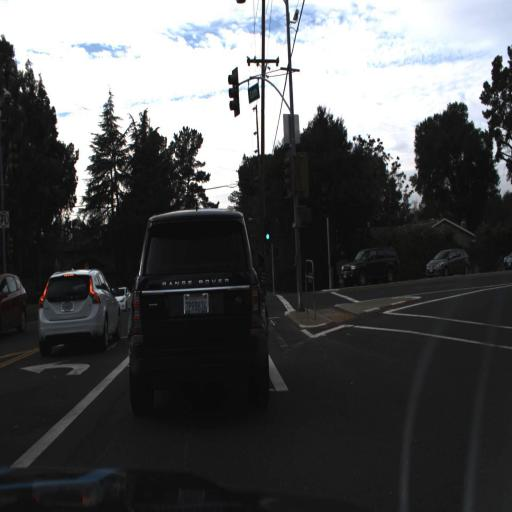car: (128, 208, 270, 415), (35, 261, 122, 356), (340, 242, 402, 288), (0, 271, 30, 340), (424, 245, 472, 278), (110, 282, 132, 312)
trafficLight-Green: (262, 213, 273, 244)
